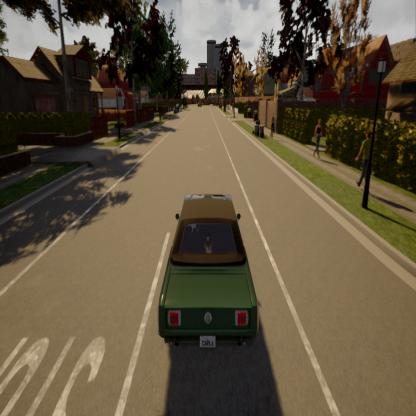Cars: (156, 194, 260, 348)
Pedestrian: (356, 130, 373, 190), (313, 118, 322, 154), (270, 112, 276, 140)
